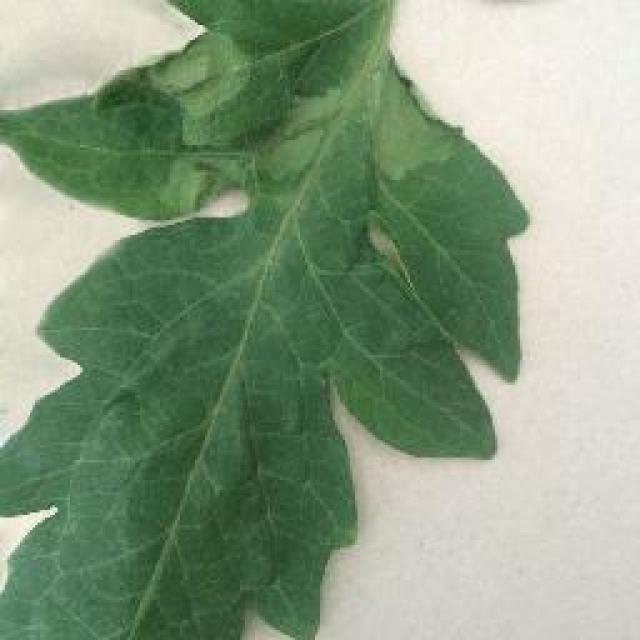Tomato Late Blight: (143, 7, 510, 213)
